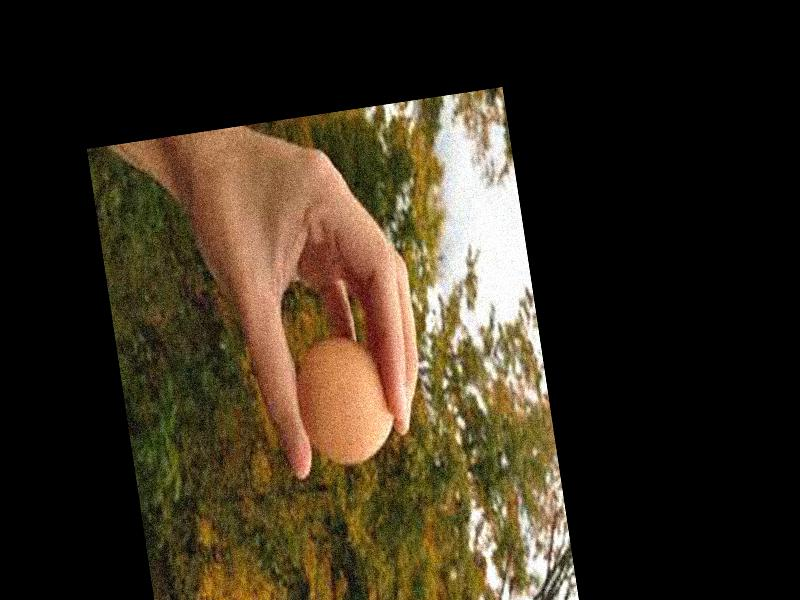Eggs: (289, 332, 401, 469)
